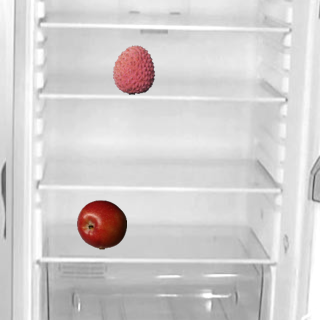Apple Braeburn: (76, 199, 126, 249)
Lychee: (108, 44, 158, 94)
